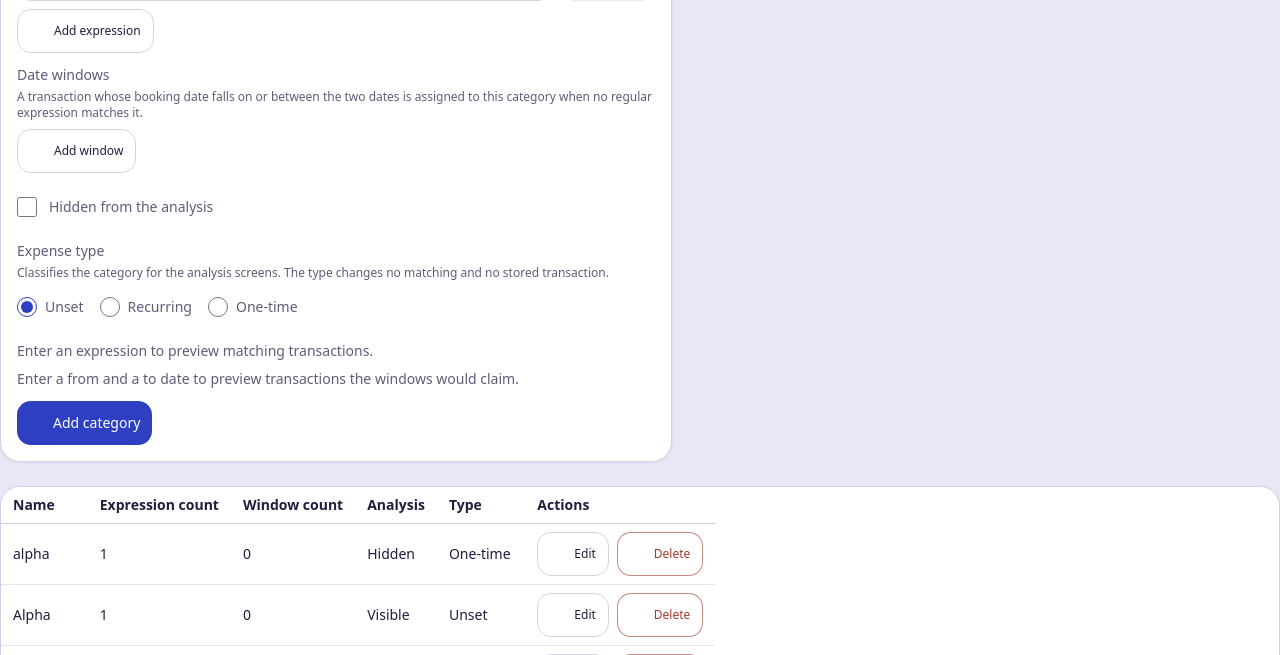
Test: category management page › pre-populates the hidden state when editing a hidden category
(page scrolled)
Click the 1st button "Edit" at (573, 554), box [537,532,609,576]
(page scrolled)
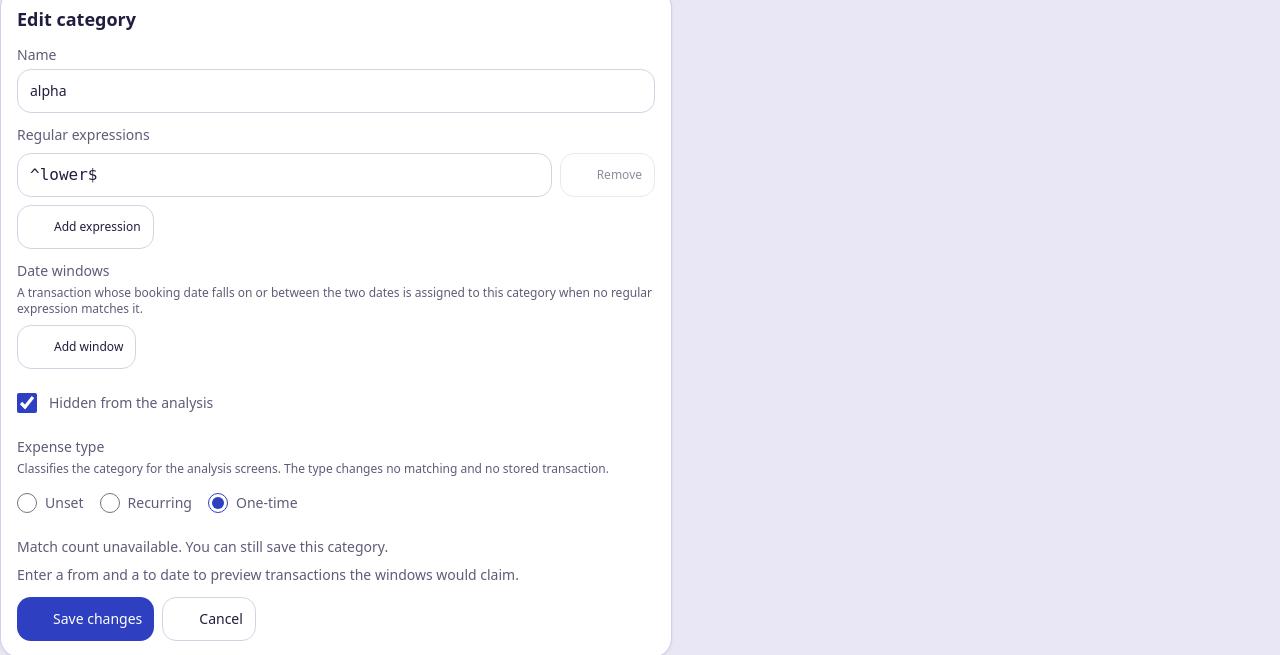
Expected: the field labelled "Name" holds "alpha", [17,69,655,113]
Expected: the checkbox with test id "hidden-input" is checked, [17,393,37,413]
